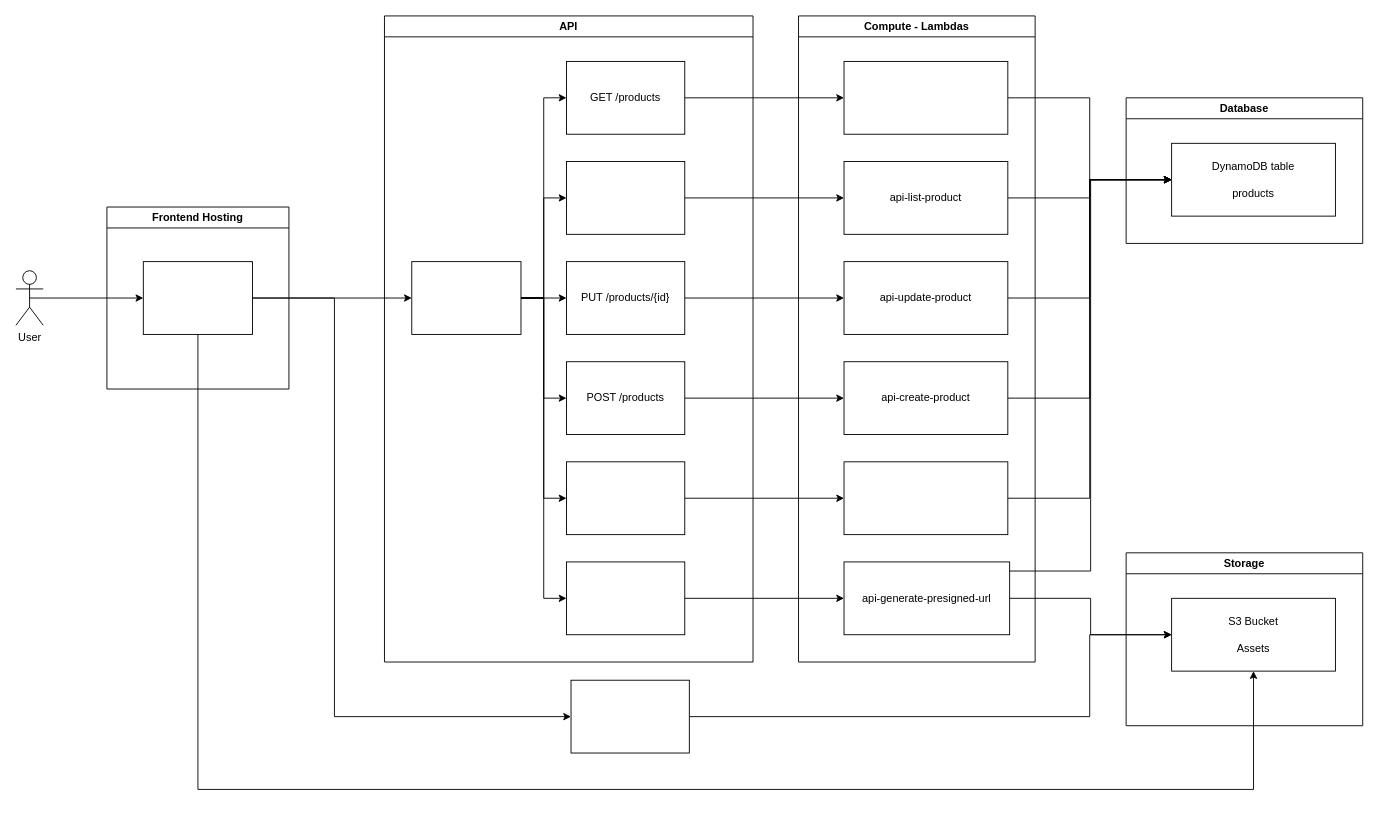
This 1379x813 diagram has some shape labels left out. The shapes that lost their labels are listed below. From the top down, each one's centre as x and y in pixels, then its label:
At (x=925, y=97): "api-get-product".
At (x=625, y=197): "GET /products/{id}".
At (x=197, y=297): "S3 Bucket Static website Web App".
At (x=466, y=297): "API Gateway /products".
At (x=625, y=498): "DELETE /products/{id}".
At (x=925, y=498): "api-delete-product".
At (x=625, y=598): "POST /products/upload".
At (x=629, y=716): "Presigned url".
